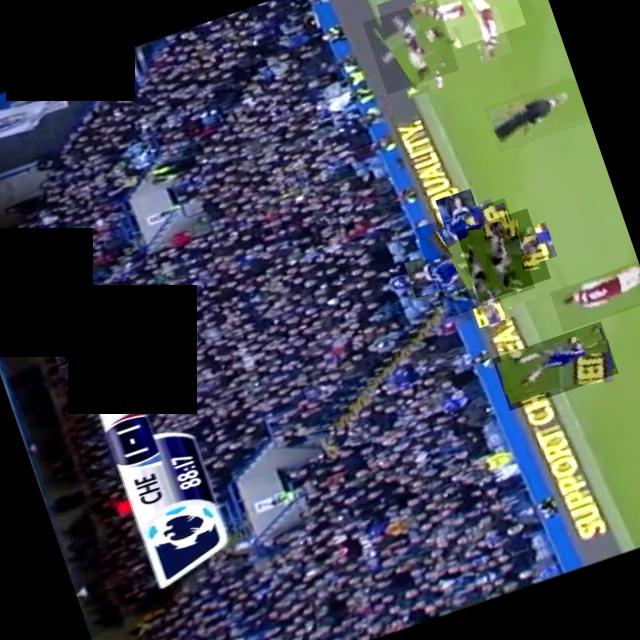ball: (574, 322, 603, 349)
referee: (484, 75, 590, 152)
soccer-player: (414, 196, 535, 318), (492, 320, 618, 409), (362, 0, 459, 93), (456, 207, 550, 301), (549, 260, 640, 330), (429, 0, 525, 48)
